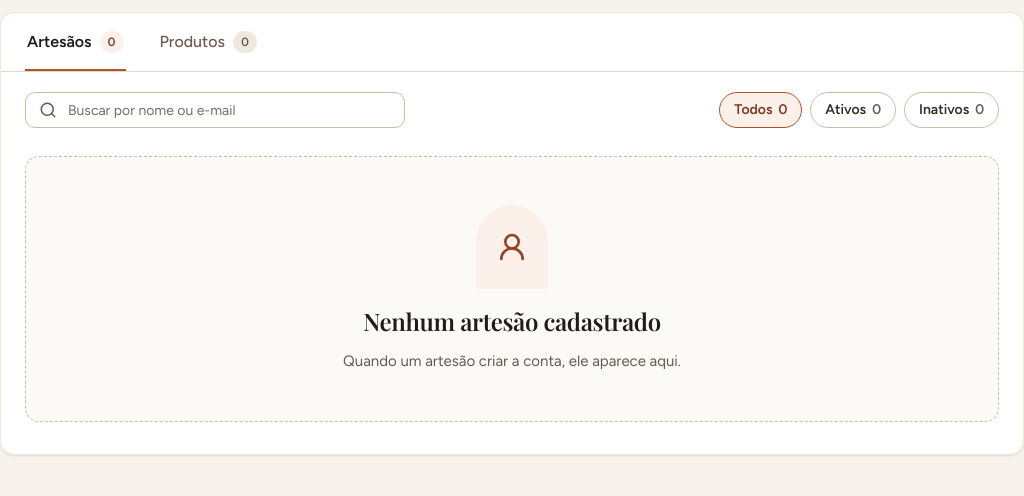
Test case: PainelModeracao › mostra estado vazio em cada aba
Expected: the heading "Nenhum artesão cadastrado" is shown, [363,307,661,336]
Click the tab "Produtos 0" at (208,42), box [158,13,259,71]
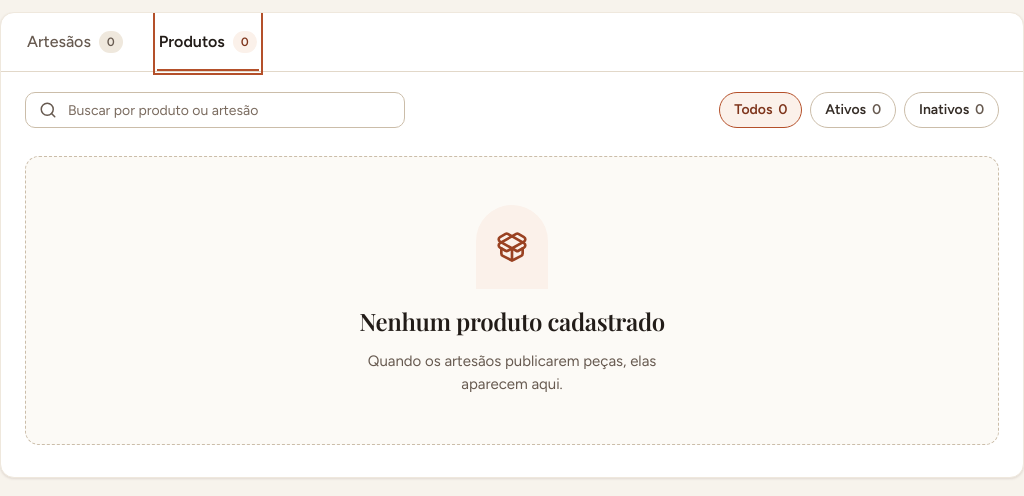
Now the heading "Nenhum produto cadastrado" is shown, box [359,307,665,336]
